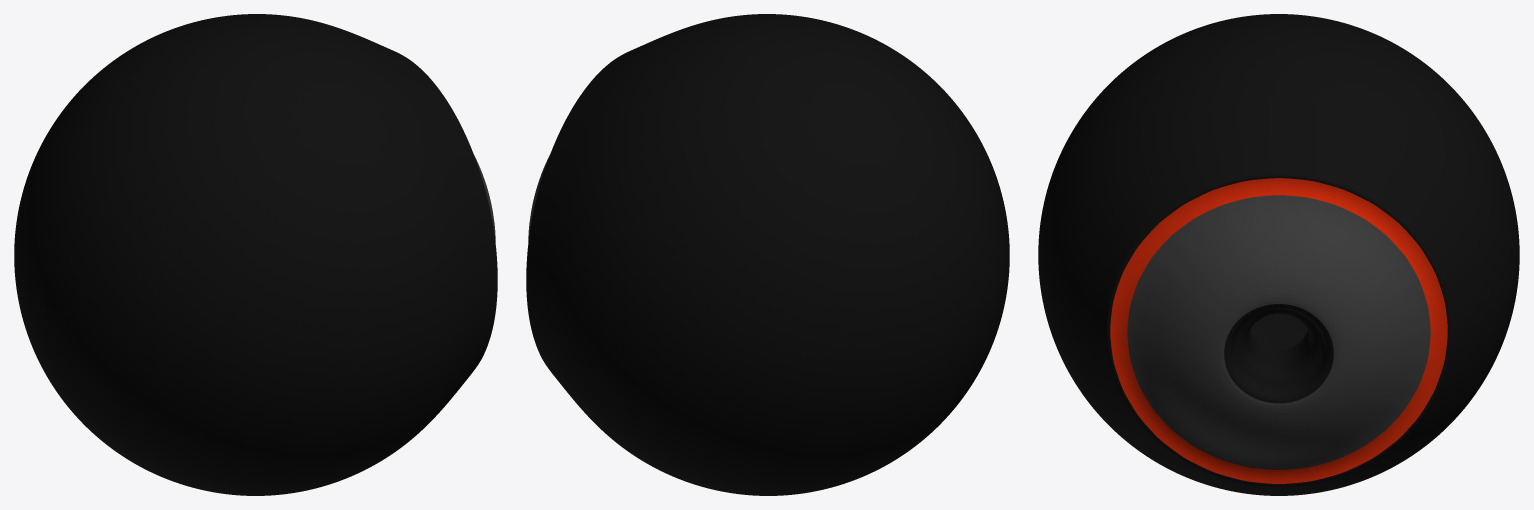
The model's file is laser.fbx.
The picture shows the model from 3 angles, left to right: view 1: azimuth 30°, elevation 25°; view 2: azimuth 150°, elevation 25°; view 3: azimuth 270°, elevation 25°; orthographic projection.
Parts seen in each view (by area): view 1: laser; view 2: laser; view 3: laser.
Part boxes in pixels (x1,y1,x2,y2): laser: (14,14,497,495); laser: (526,14,1009,495); laser: (1038,14,1519,495).
Size of the model in its own units: 196 by 197 by 197.
